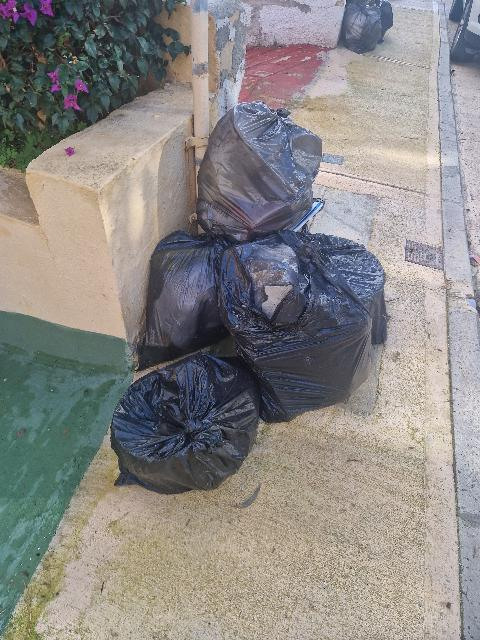Mixed -Black-: (218, 237, 373, 420), (111, 352, 261, 494), (139, 231, 231, 369), (312, 233, 387, 345)
Recyclable -Grey-: (196, 101, 322, 241)
